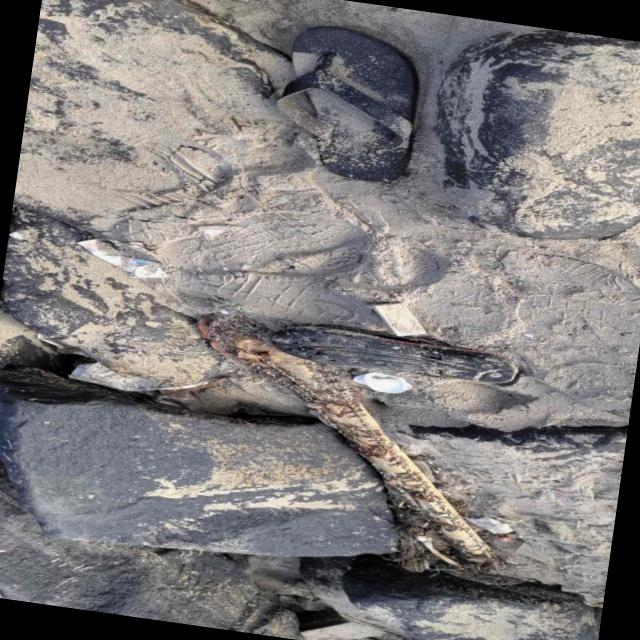dep: (276, 26, 417, 181), (270, 326, 518, 383)
